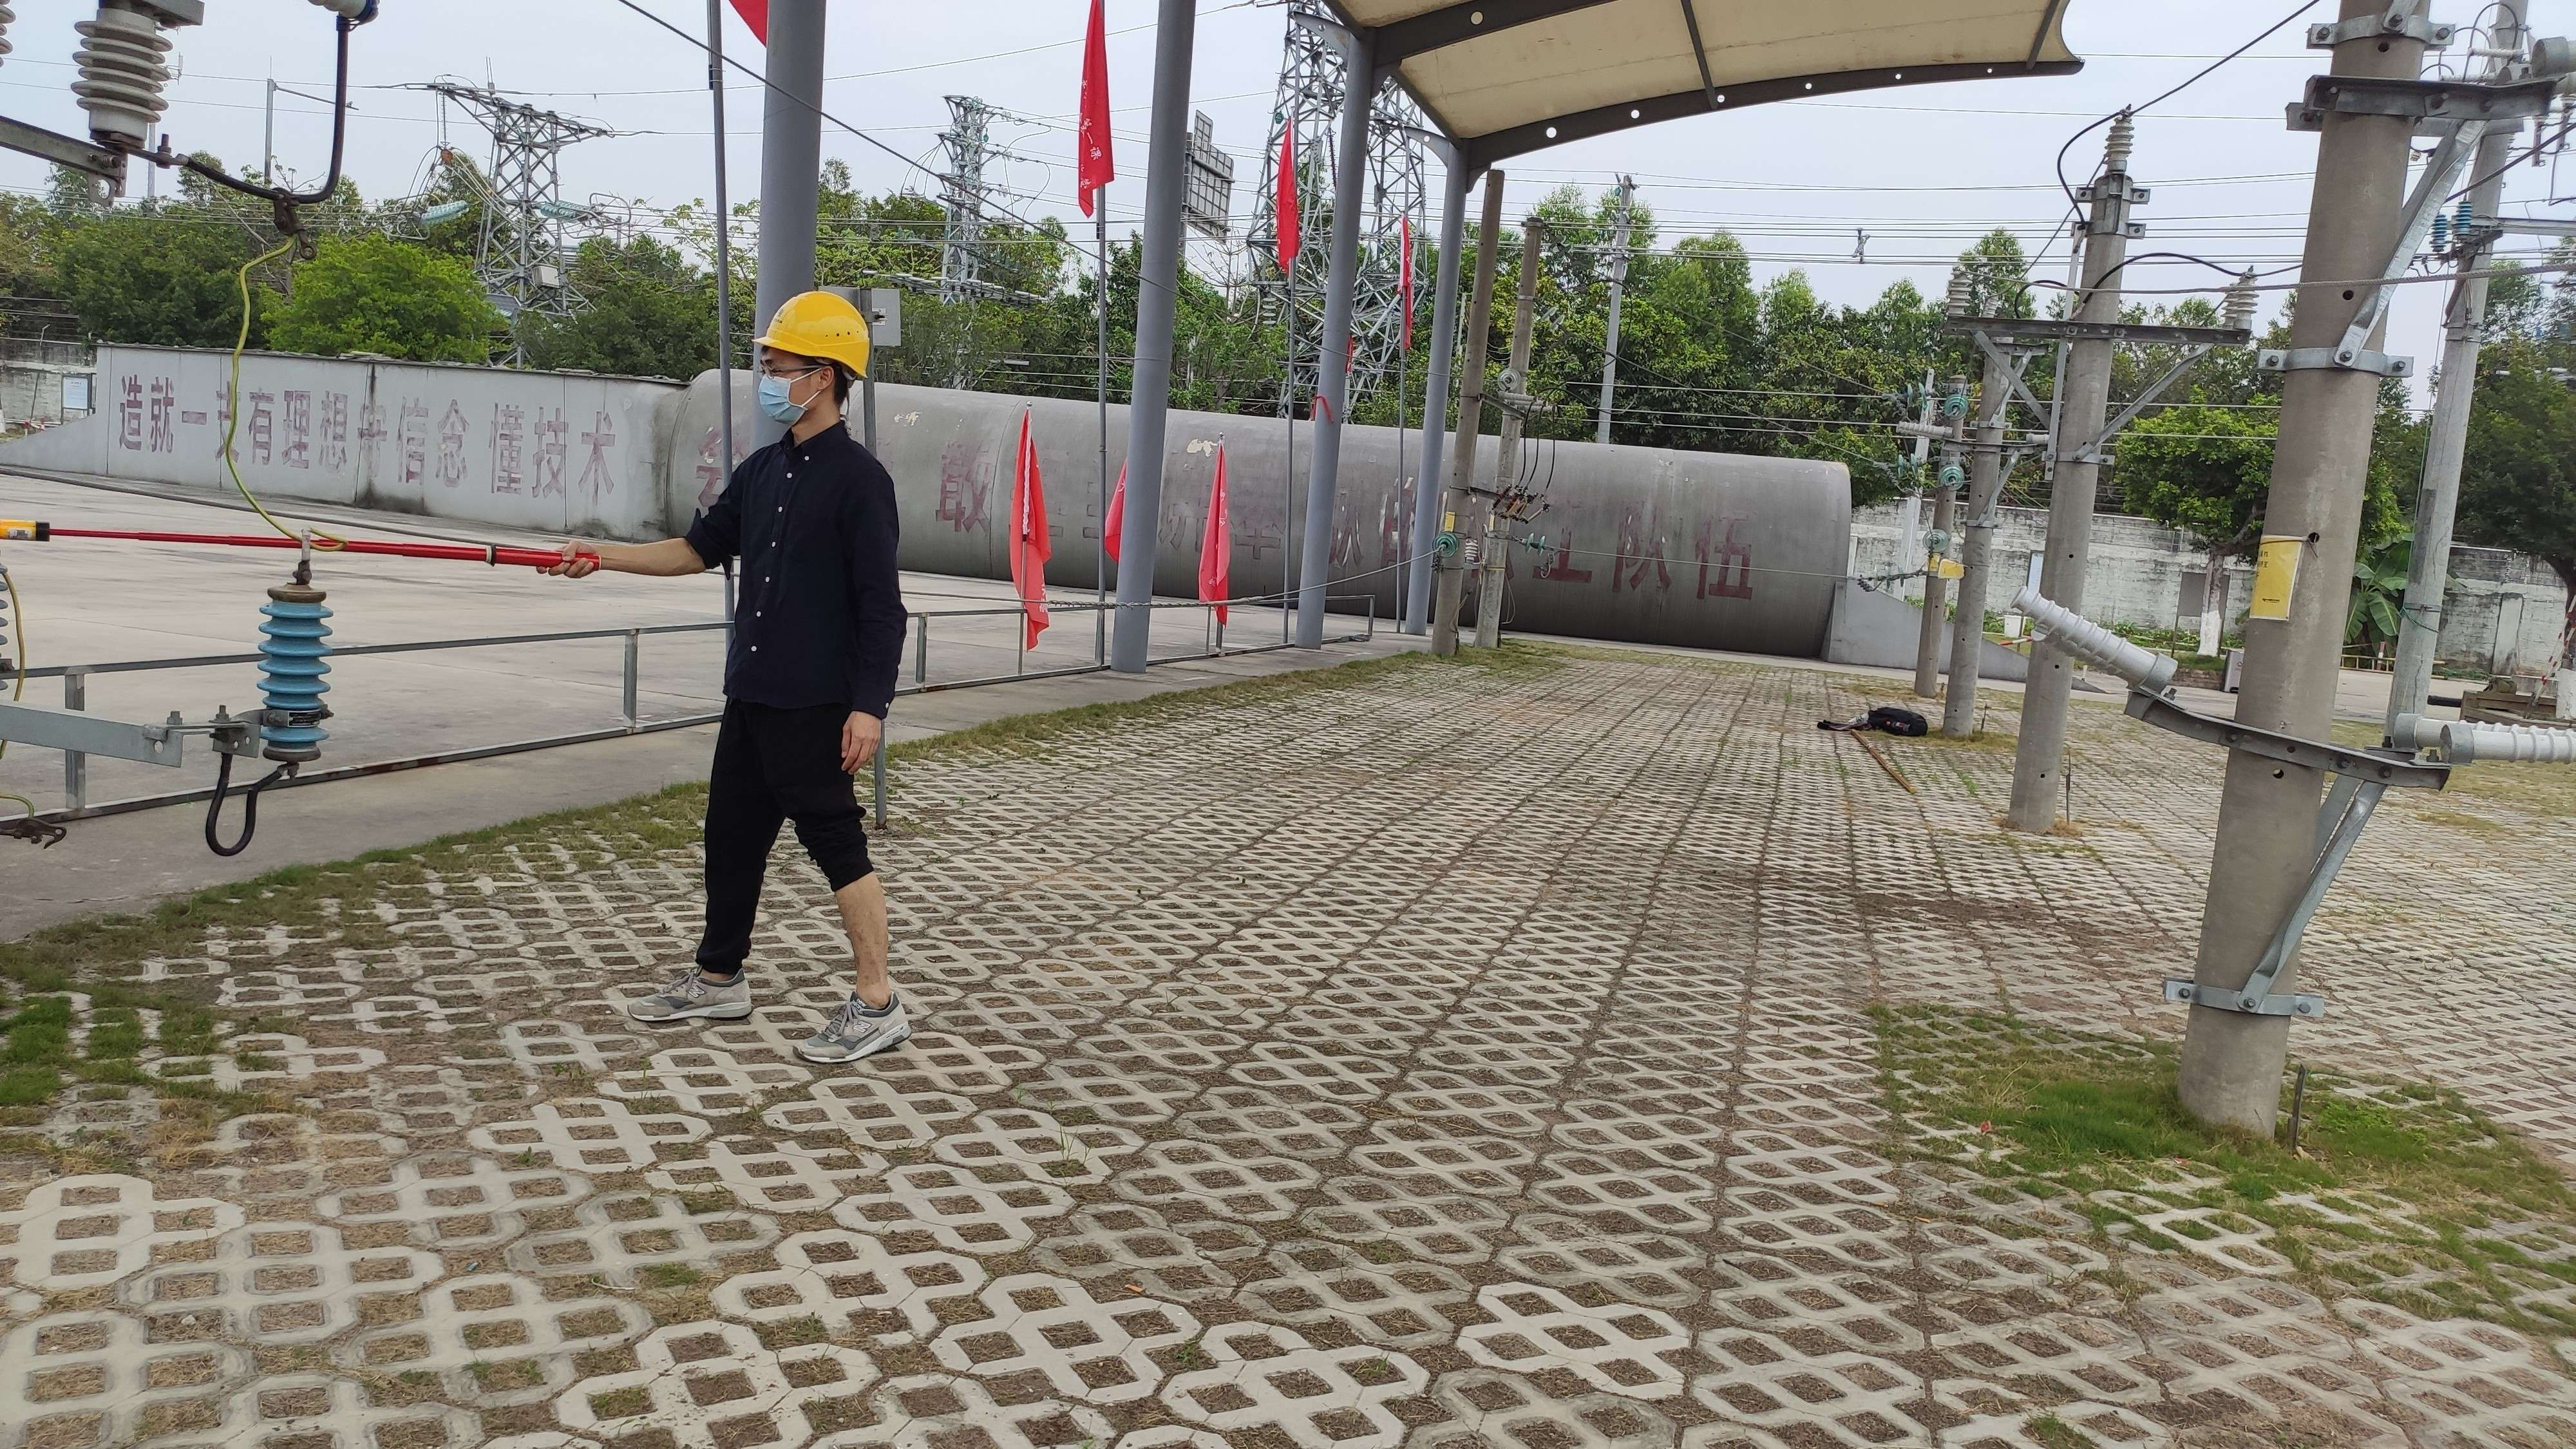downcloth: (678, 708, 902, 1030)
upcloth: (692, 449, 908, 722)
wrongbottom: (814, 812, 902, 1019)
wrongtop: (556, 513, 736, 596)
